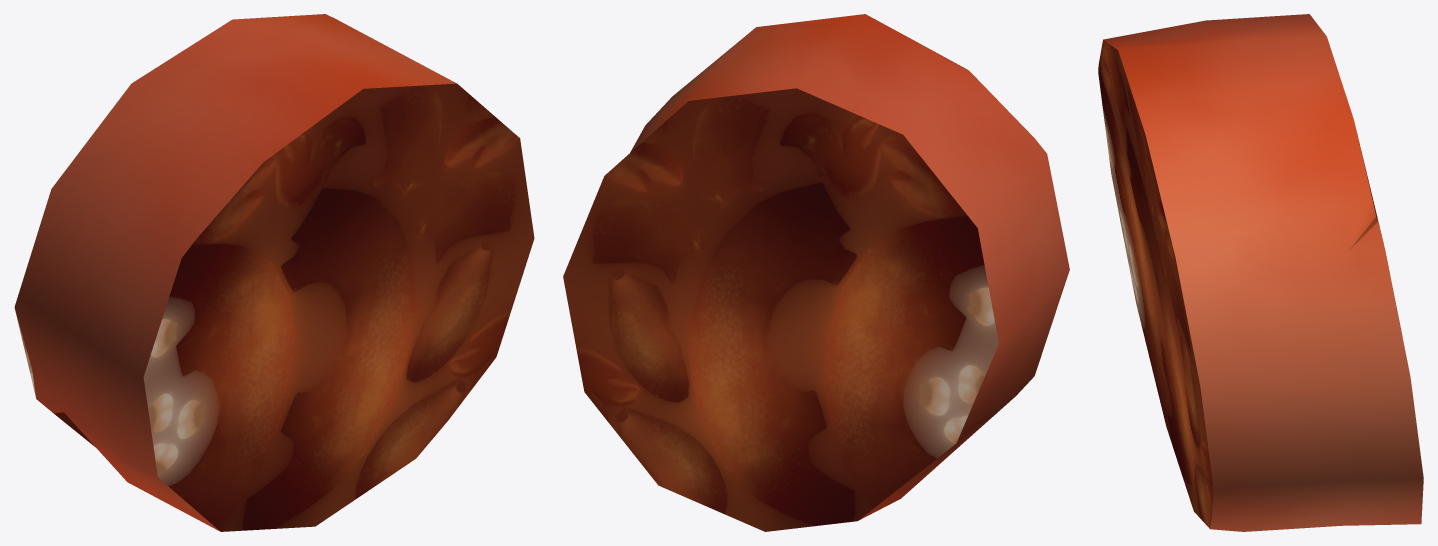
File: Sausage05.fbx
The picture shows the model from 3 angles, left to right: view 1: azimuth 30°, elevation 25°; view 2: azimuth 150°, elevation 25°; view 3: azimuth 270°, elevation 25°; orthographic projection. The views are drawn at different scales.
Parts seen in each view (by area): view 1: Sausage05; view 2: Sausage05; view 3: Sausage05.
Boxes of the visible parts, x1=… form: Sausage05: x1=14, y1=14, x2=534, y2=531; Sausage05: x1=563, y1=14, x2=1069, y2=531; Sausage05: x1=1098, y1=14, x2=1423, y2=531.
Size of the model in its own units: 0.1249 by 0.12 by 0.0759.
